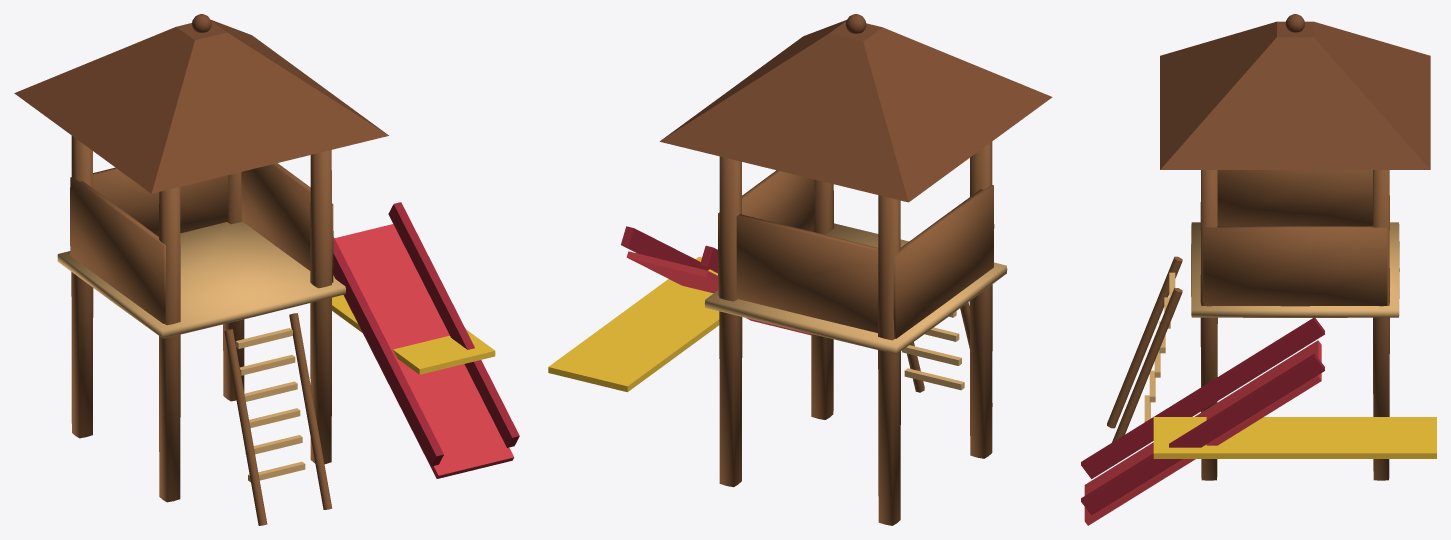
Rendered from play_fort.glb.
3 views of the same model, side by side, from view 1: azimuth 30°, elevation 25°; view 2: azimuth 150°, elevation 25°; view 3: azimuth 270°, elevation 25° (orthographic). The views are drawn at different scales.
Parts seen in each view (by area): view 1: root; view 2: root; view 3: root.
Boxes of the visible parts, x1,y1,x2,y2 form: root: [14, 14, 519, 525]; root: [548, 14, 1052, 525]; root: [1081, 14, 1436, 525].
Size of the model in its own units: 3.15 by 3.84 by 2.89.
